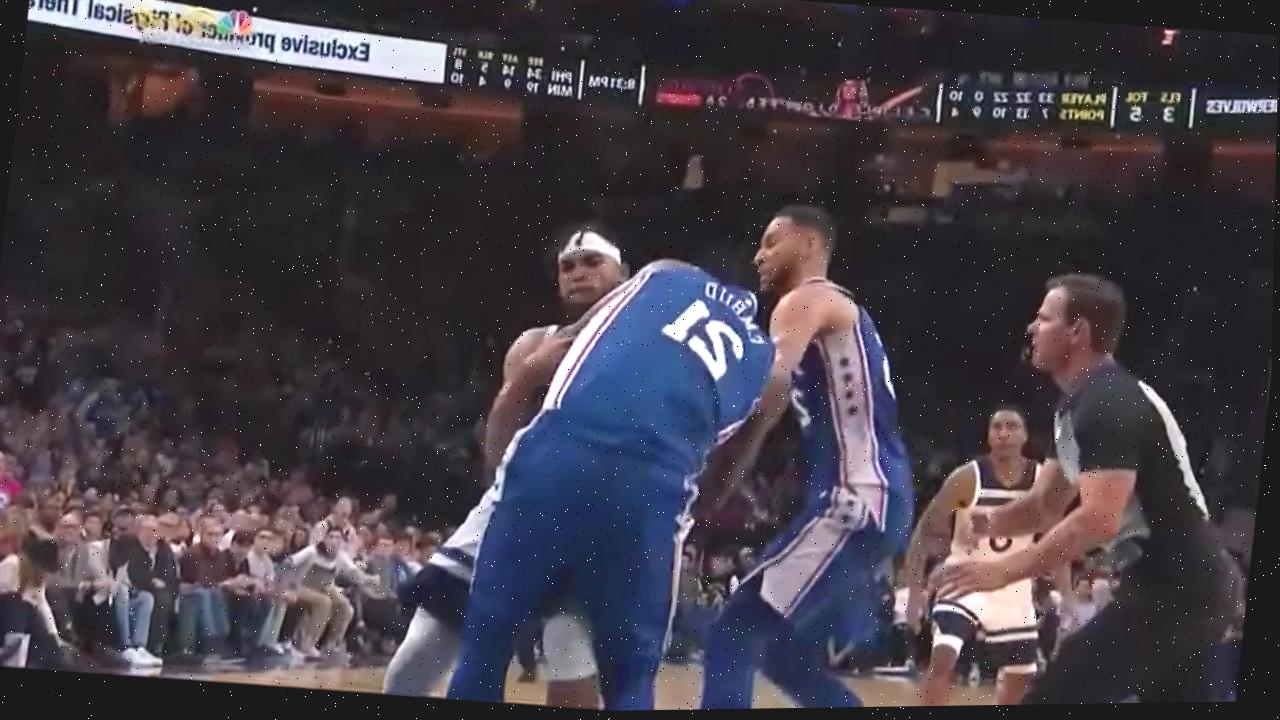foul: (343, 169, 877, 715)
